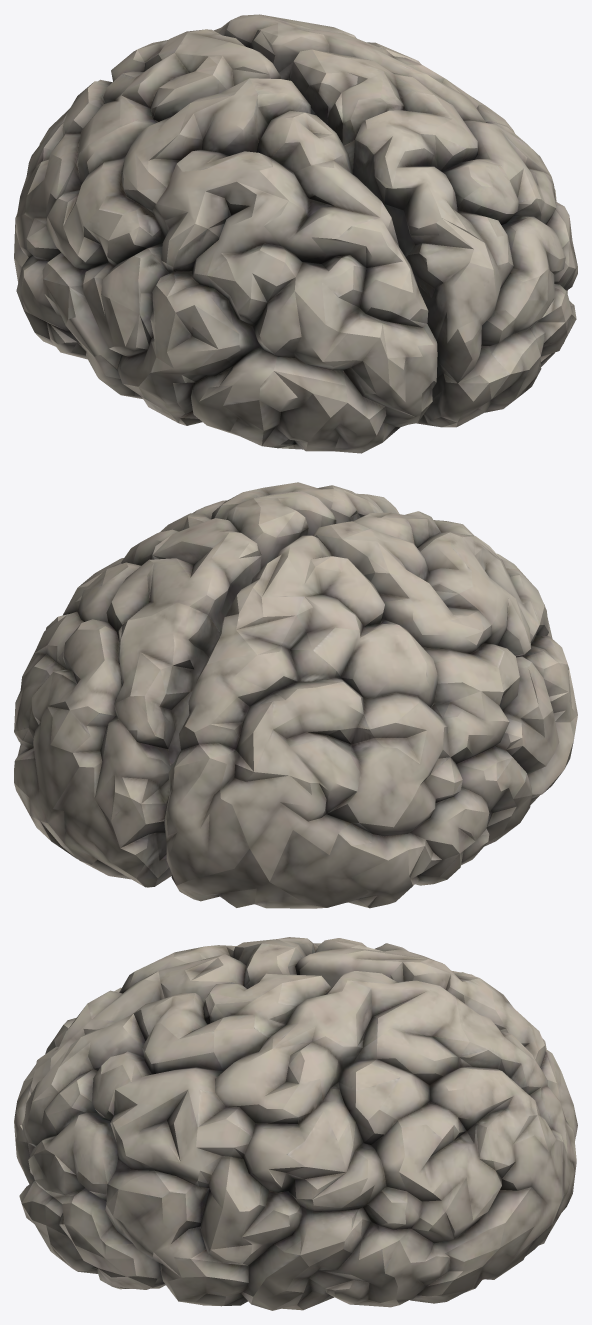
The picture shows the model from 3 angles, top to bottom: view 1: azimuth 30°, elevation 25°; view 2: azimuth 150°, elevation 25°; view 3: azimuth 270°, elevation 25°; orthographic projection. The views are drawn at different scales.
Parts seen in each view (by area): view 1: Mesh_0; view 2: Mesh_0; view 3: Mesh_0.
Part boxes in pixels (<box>): Mesh_0: <box>14,14,577,453</box>; Mesh_0: <box>14,482,577,908</box>; Mesh_0: <box>14,937,577,1310</box>.
Bounding box in the file's own units: 1.67 × 1.01 × 1.9.
1 material, 1 textured.
